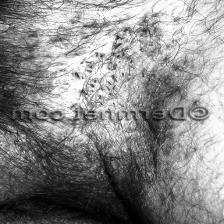Toxin: (50, 16, 178, 105), (54, 124, 180, 176)
